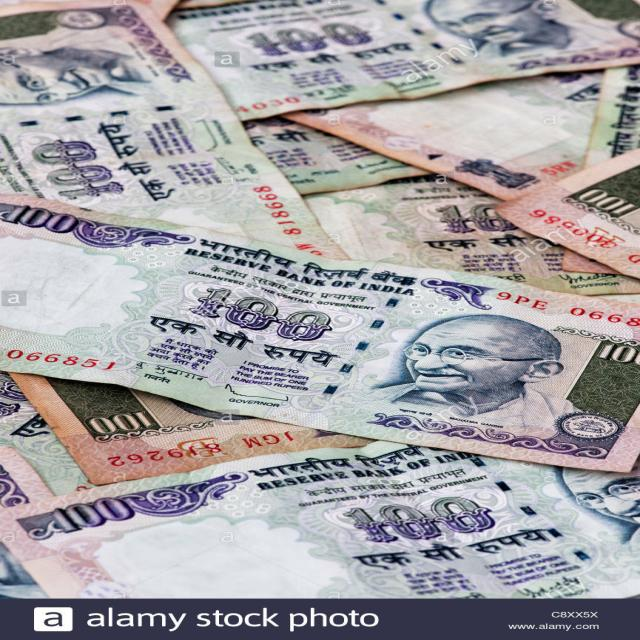100IndianRupees: (0, 202, 640, 476)
